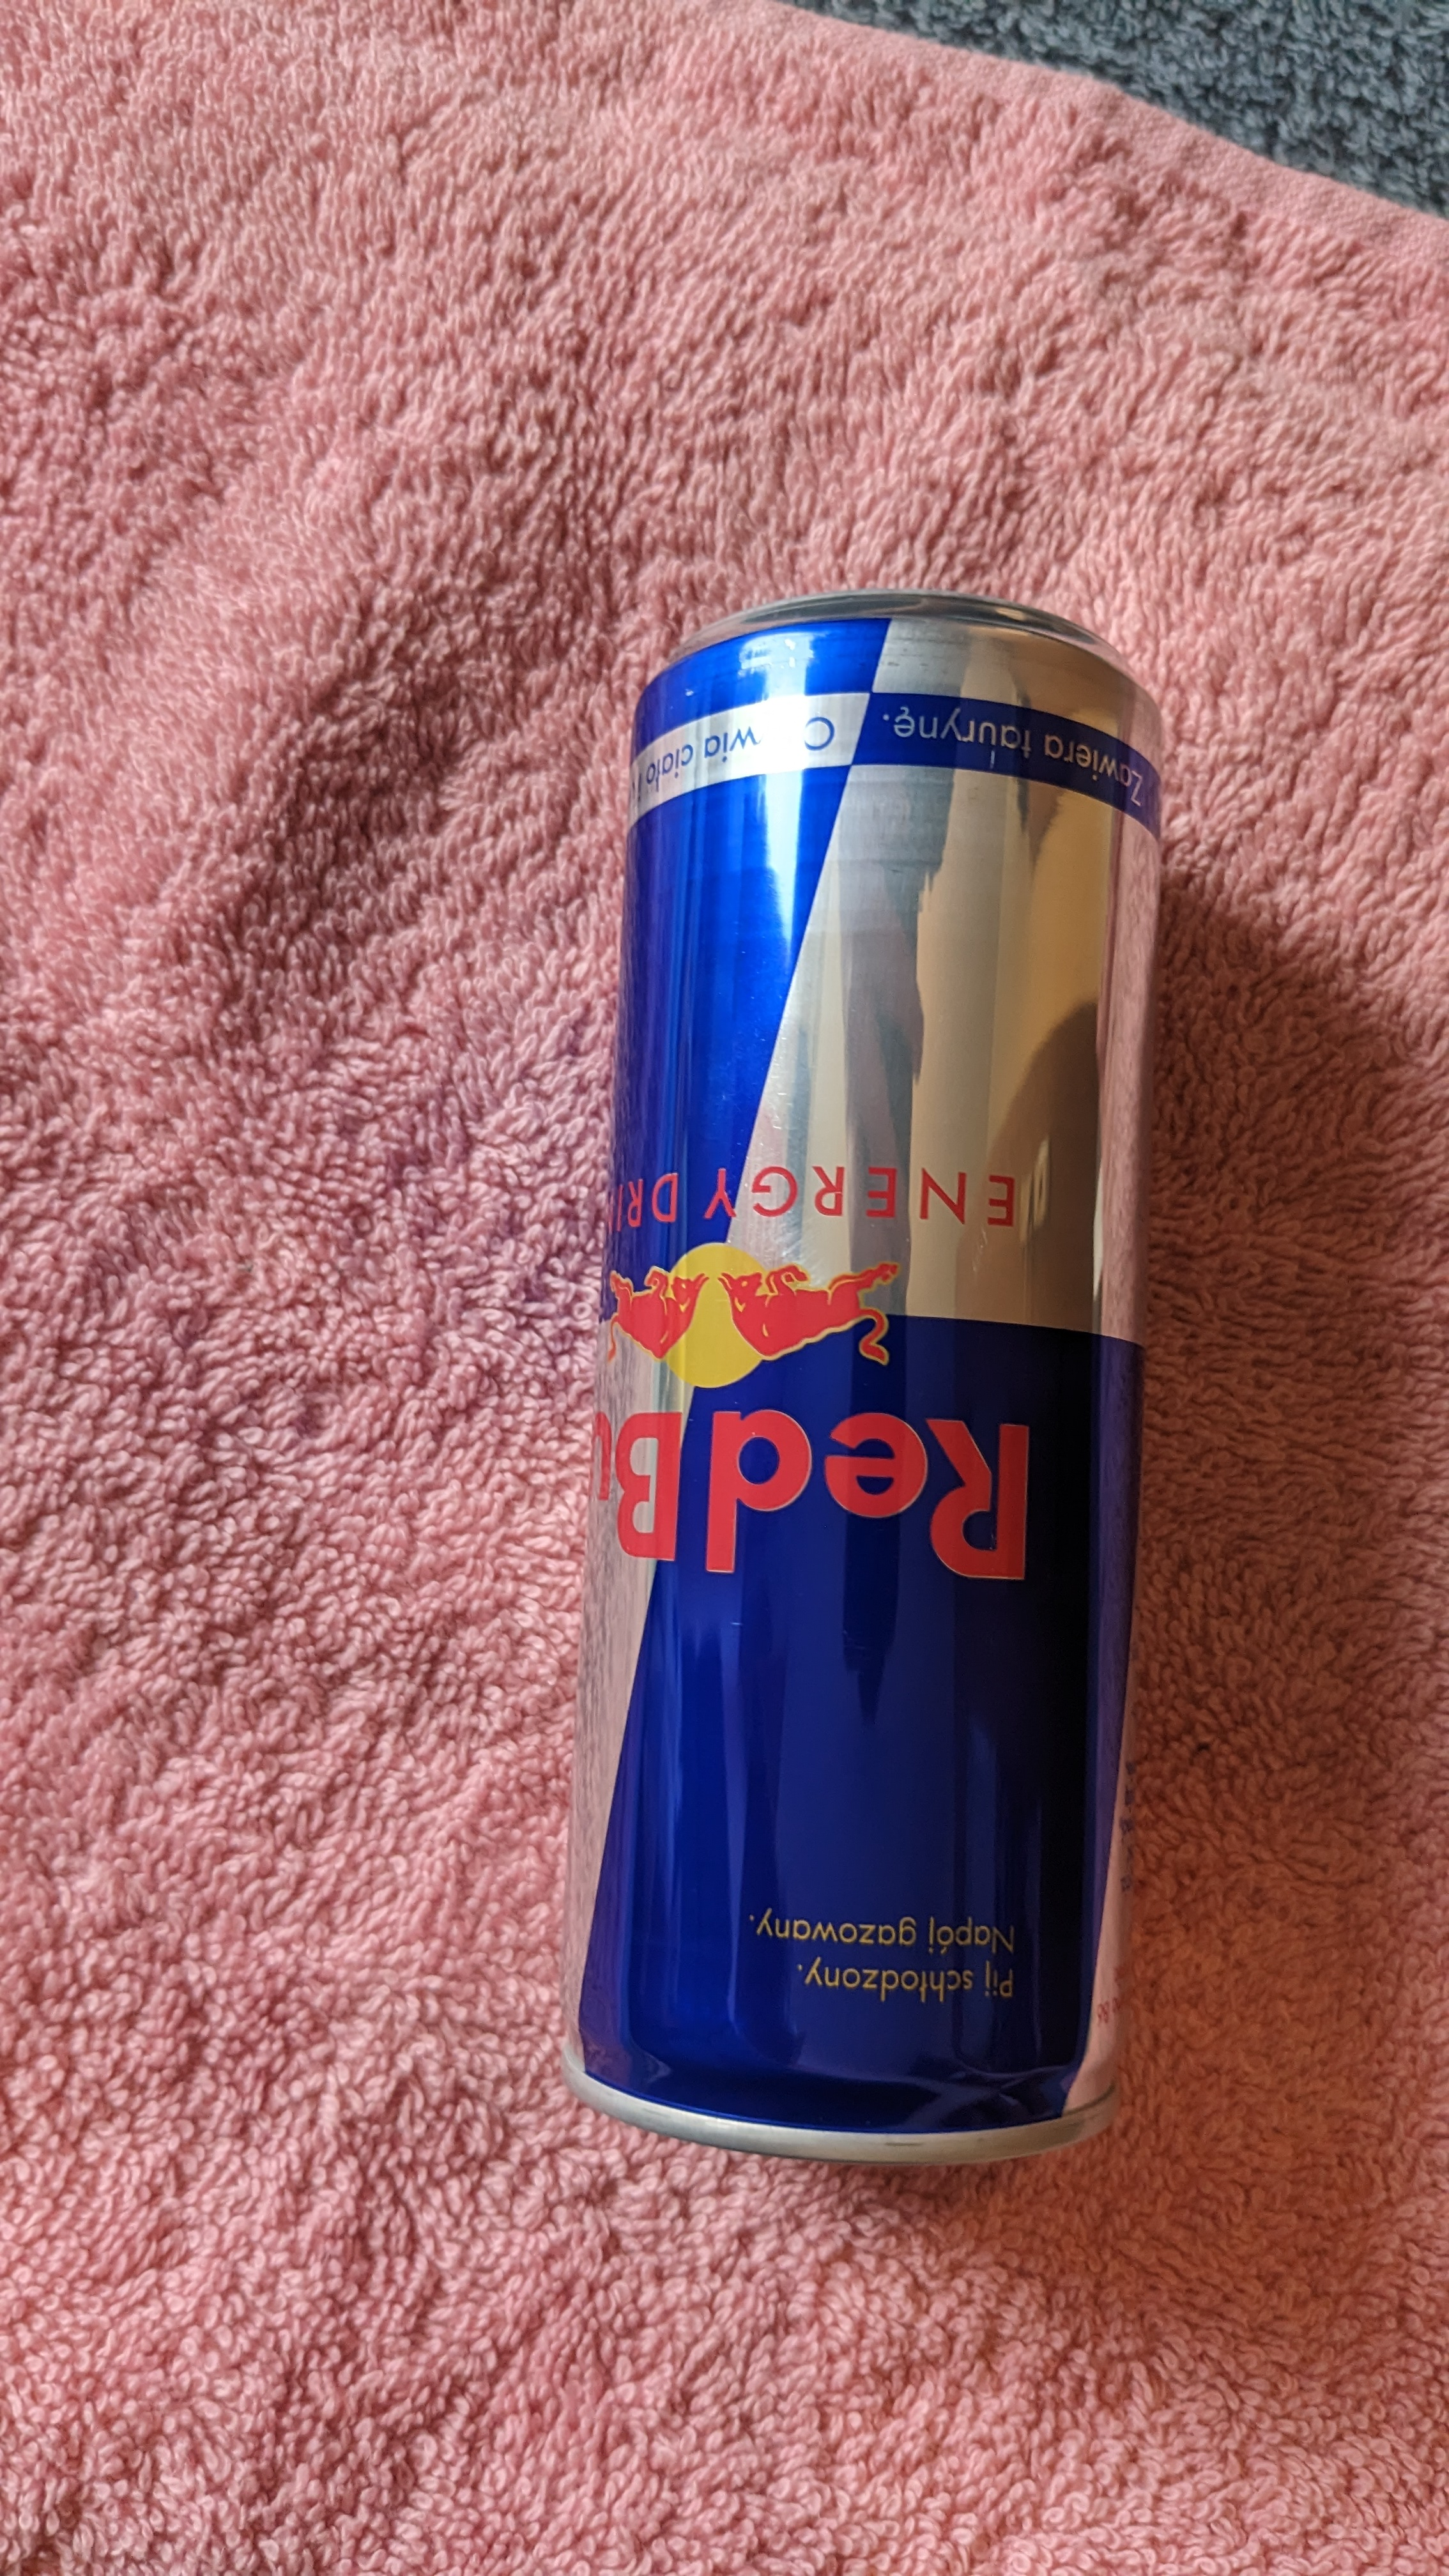red-bull: (566, 577, 1162, 2196)
